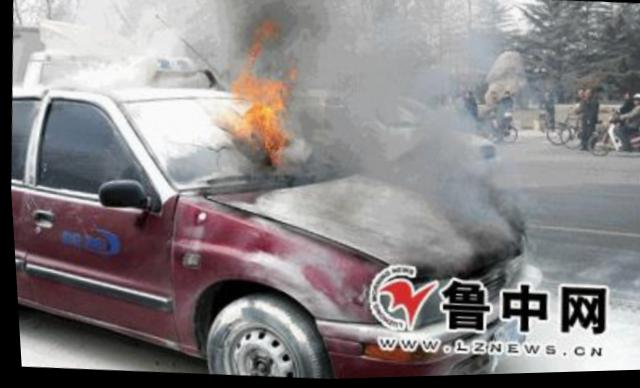fire: (216, 18, 308, 182)
